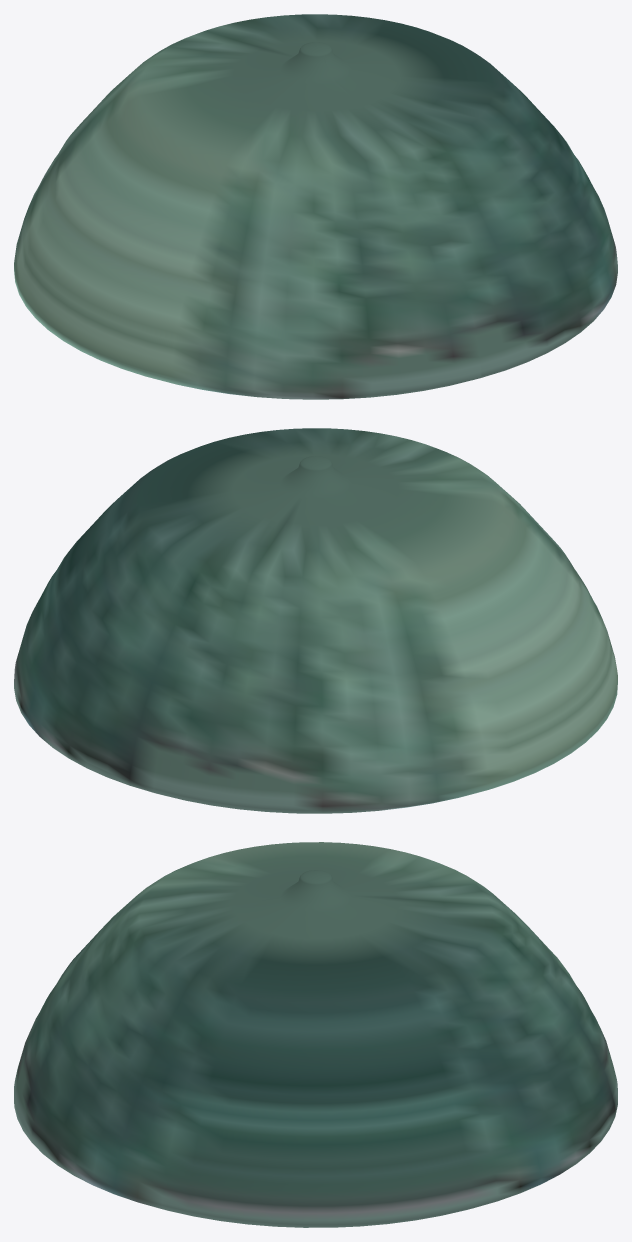
File: knit-shrub-0.glb
The picture shows the model from 3 angles, top to bottom: view 1: azimuth 30°, elevation 25°; view 2: azimuth 150°, elevation 25°; view 3: azimuth 270°, elevation 25°; orthographic projection.
Parts seen in each view (by area): view 1: knit-shrub-0; view 2: knit-shrub-0; view 3: knit-shrub-0.
Boxes of the visible parts, x1,y1,x2,y2 form: knit-shrub-0: (14, 14, 617, 399); knit-shrub-0: (14, 428, 617, 813); knit-shrub-0: (14, 842, 617, 1227).
Bounding box in the file's own units: 1.01 × 0.5824 × 1.01.
